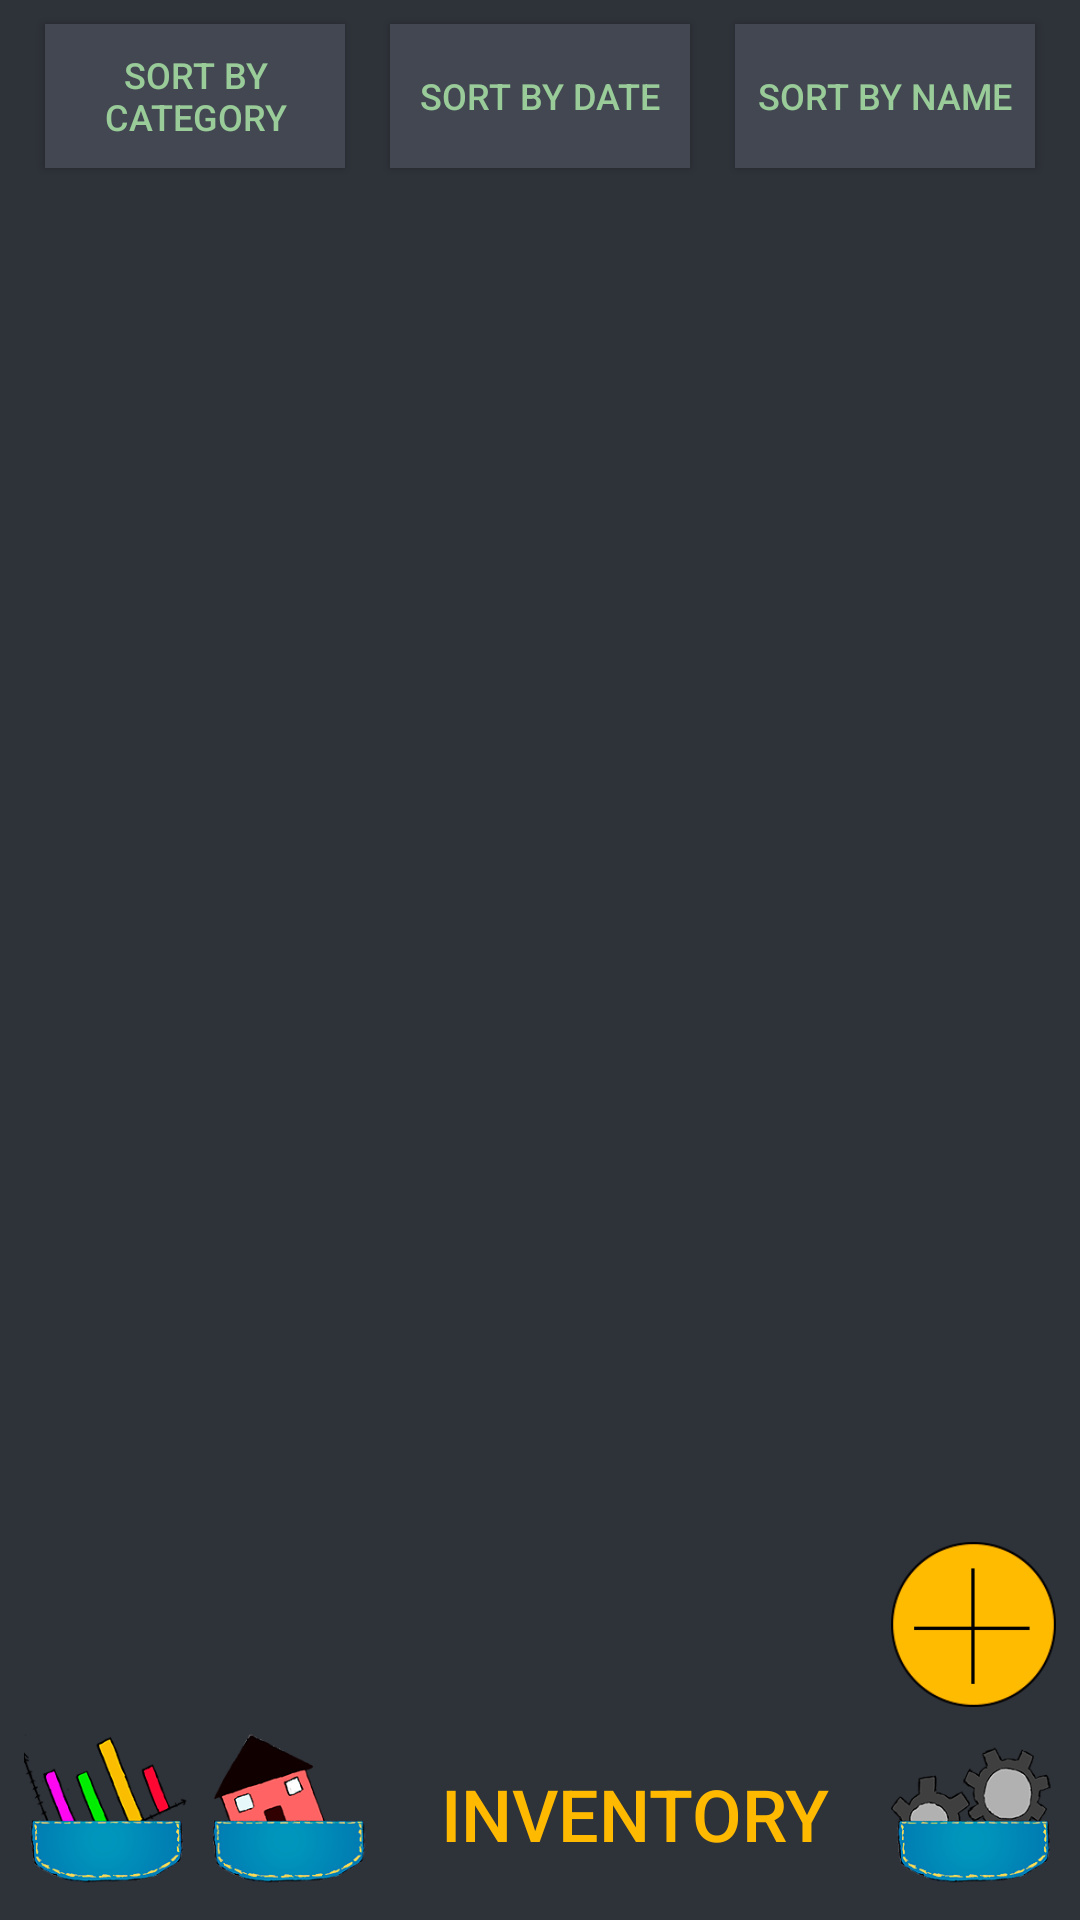

Named icons in this screenshot (1080 × 1920) and their centers, (x=x, y=y):
add: (x=973, y=1624)
home: (x=288, y=1808)
settings: (x=970, y=1815)
statistics: (x=105, y=1809)
